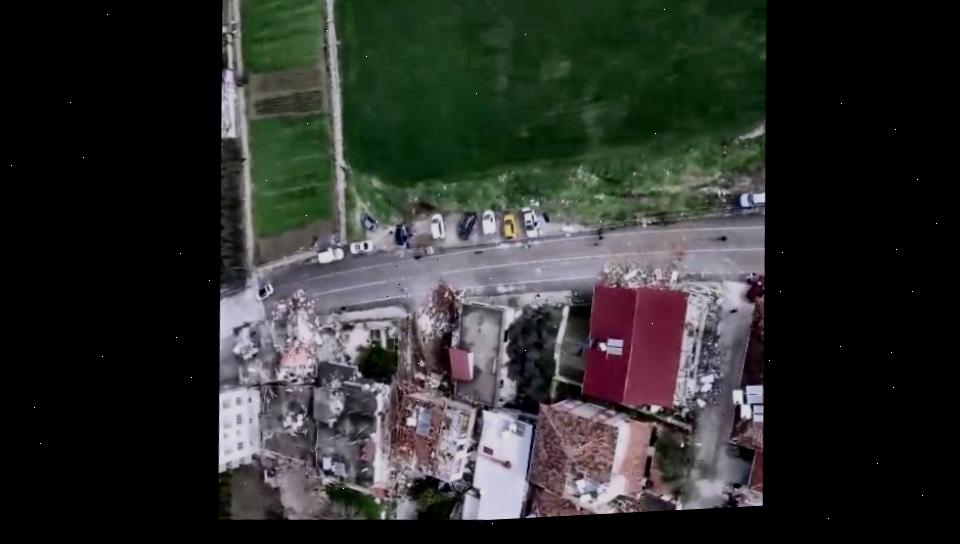kapali: (395, 281, 430, 519)
